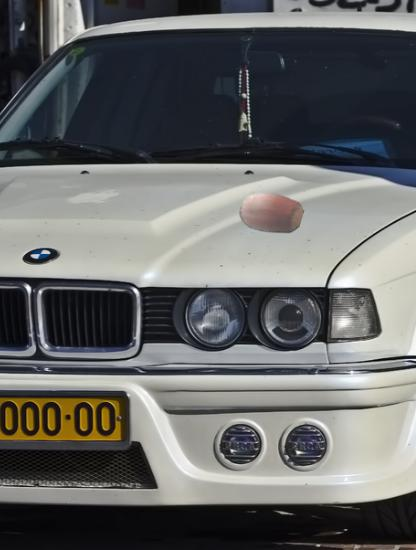Hazelnut: (237, 181, 303, 247)
